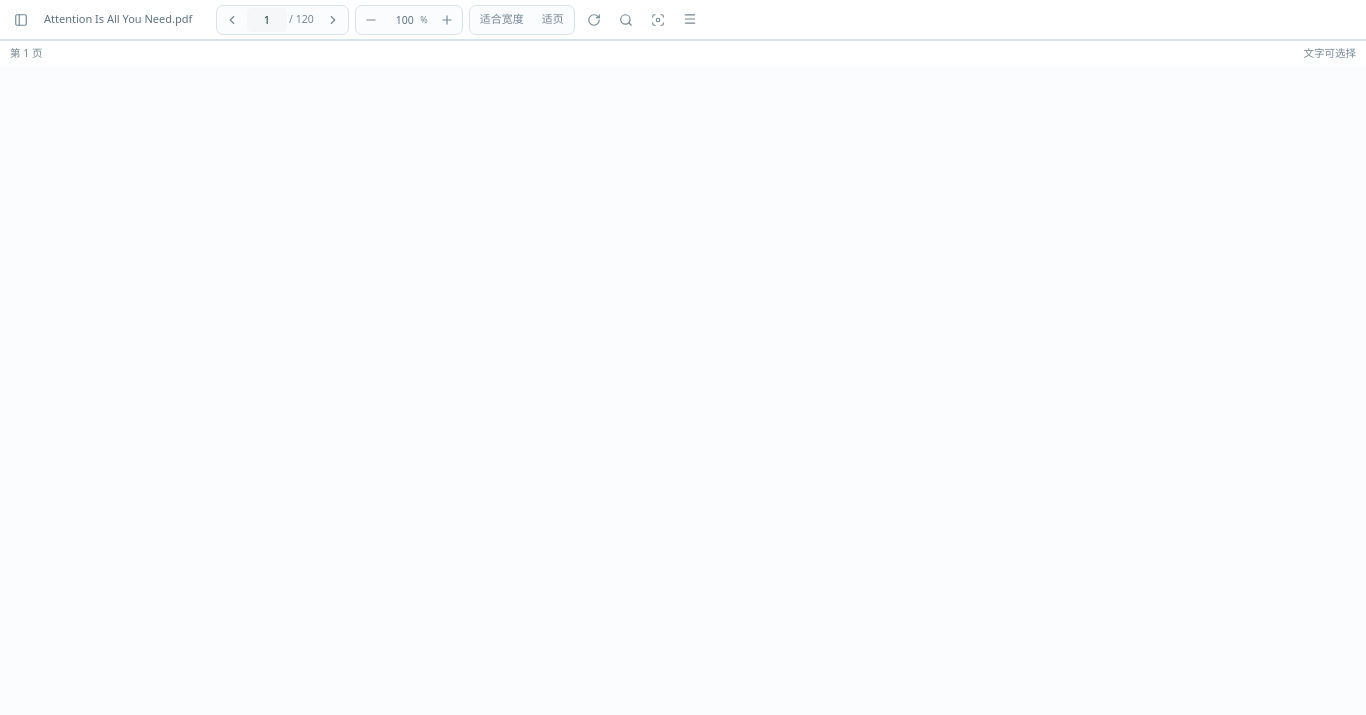
Test: PdfView beta reading chain › keeps thumbnails and outline in one sidebar that is collapsed by default
This screenshot has width=1366, height=715.
Expected: the element named "PDF 阅读工具" is shown, [0,0,1365,40]
Expected: the text "/ 120" is shown, [289,12,318,27]
Click the button named "显示文档侧栏": (21, 20) [8,8,34,32]
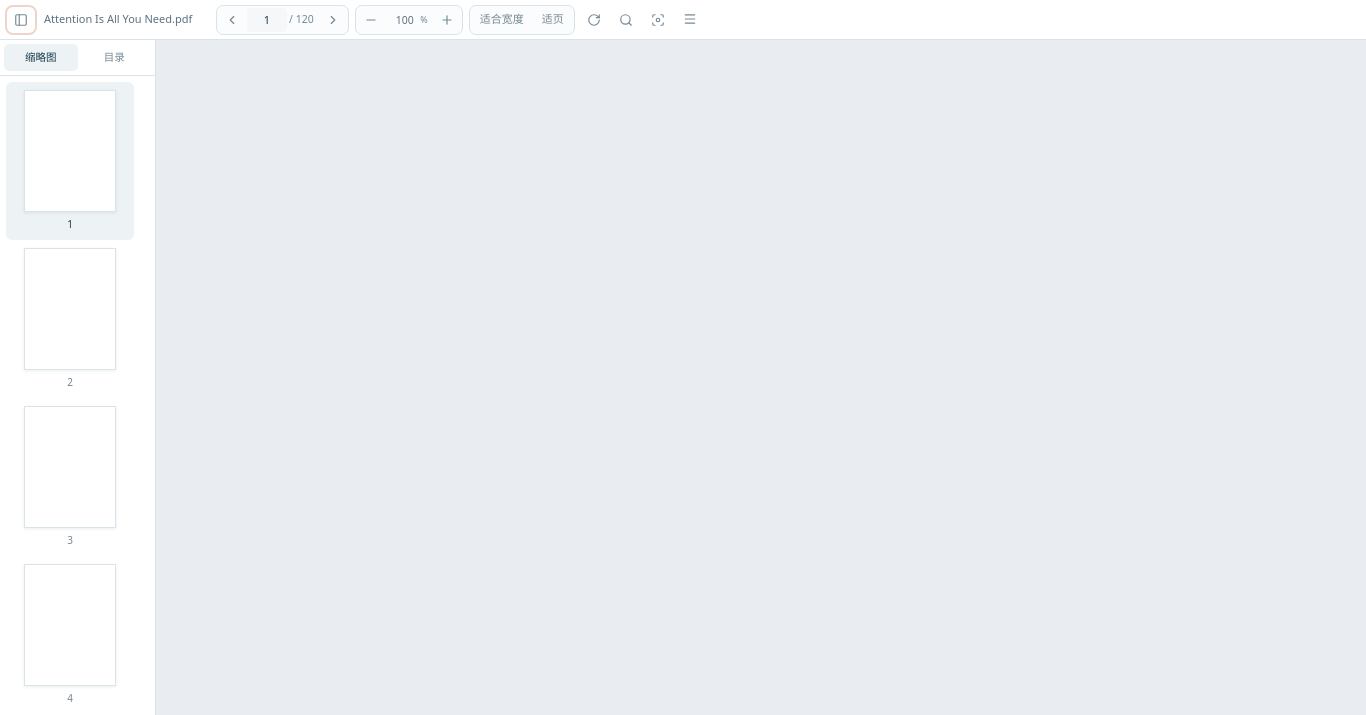
Result: the tab "缩略图" is shown at [4,44,78,71]
Click the tab "目录": (114, 58) [78,44,151,71]
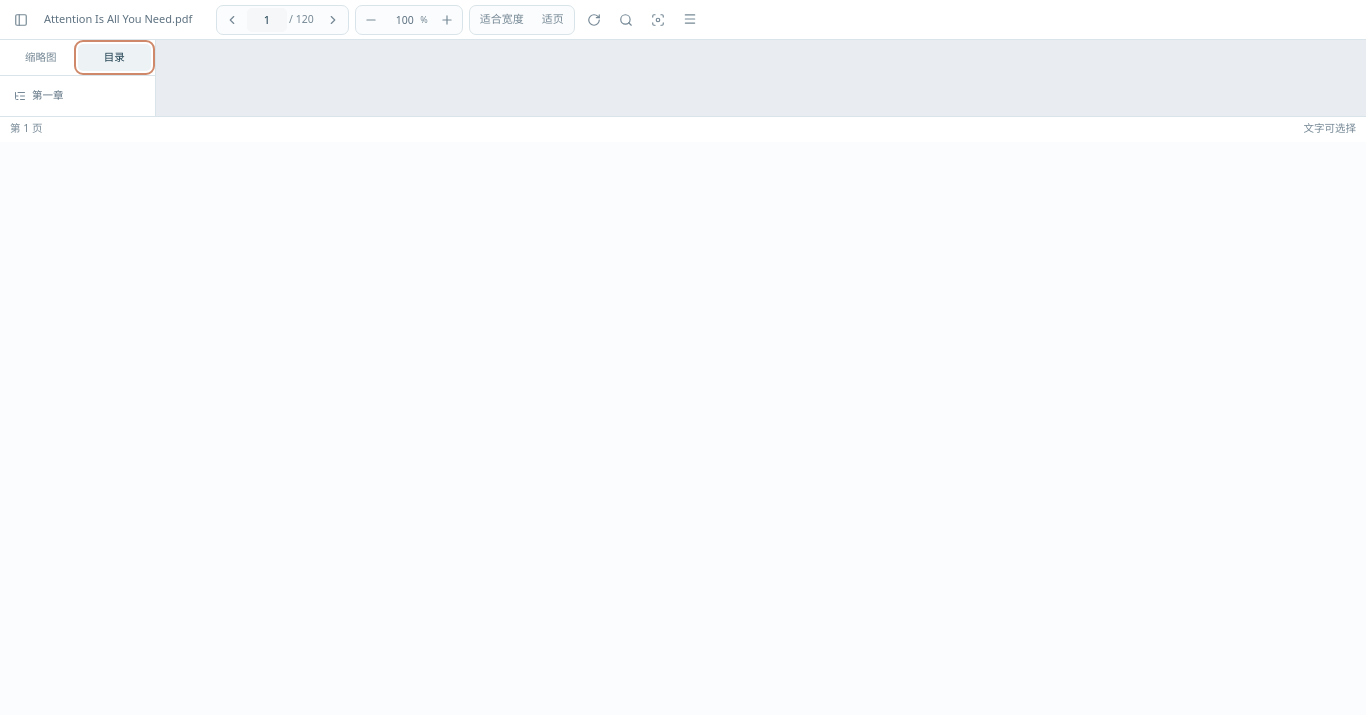
Result: the button "第一章" is shown at [6,82,134,110]
